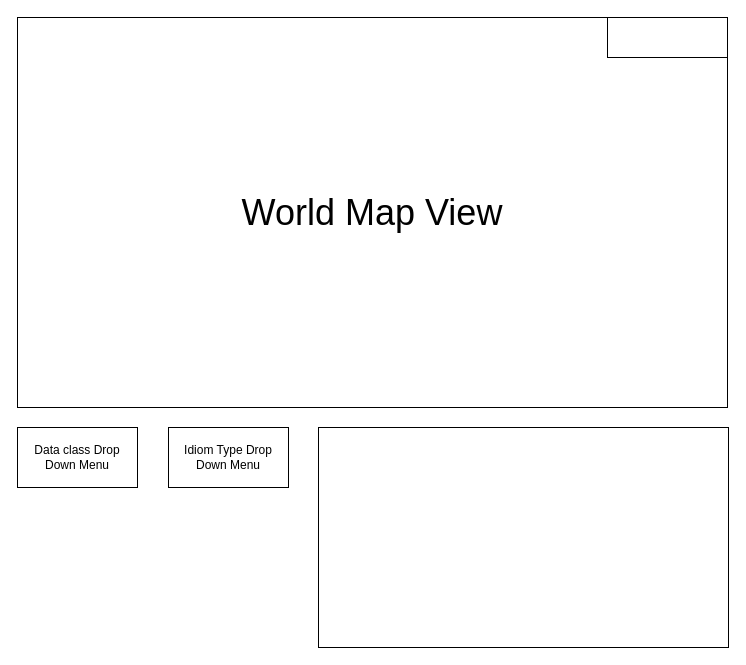
Some shapes in this 746 by 665 pixel diagram are drawn without their labels. The box of each missing label's shape, as (x1, y1, x2, y2) in pixels:
Array of Radio Buttons to select specific metric: (318, 426, 728, 648)
Map Projection Drop Down Menu: (606, 16, 728, 58)
